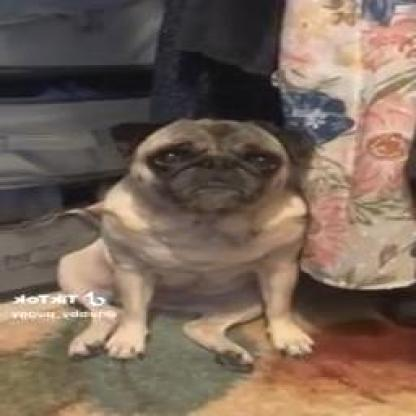dog: (56, 115, 319, 374)
